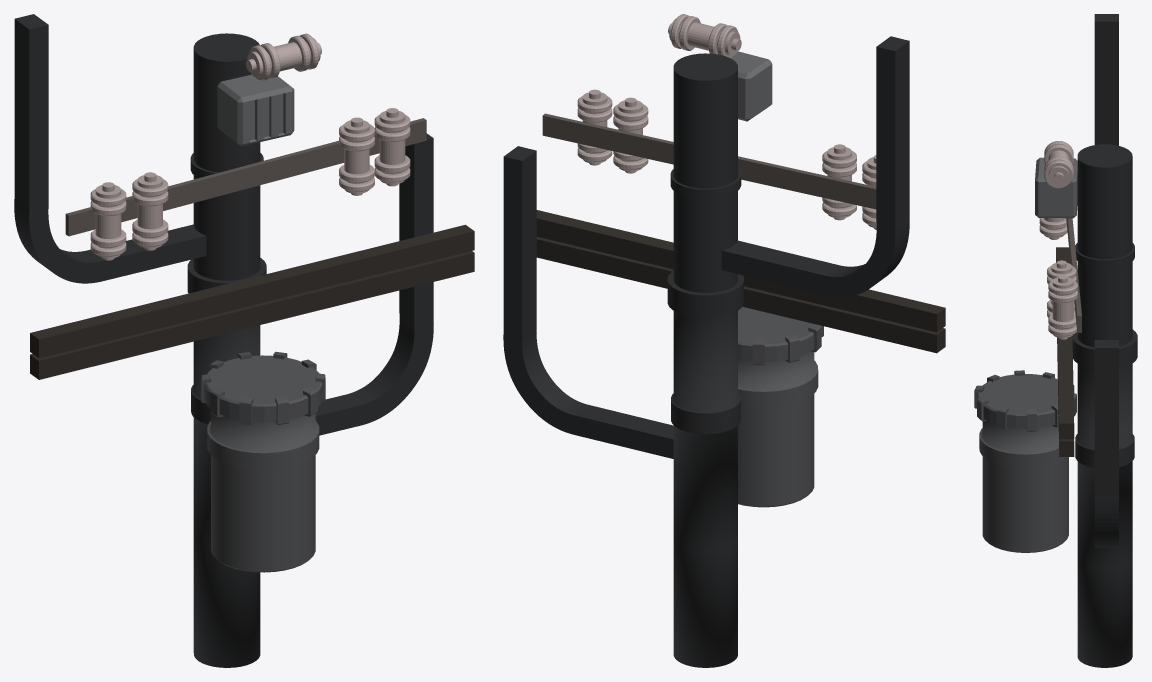
Rendered from m_tete_pole.FBX.
3 renders of one model, left to right at view 1: azimuth 30°, elevation 25°; view 2: azimuth 150°, elevation 25°; view 3: azimuth 270°, elevation 25°, orthographic. The views are drawn at different scales.
Parts seen in each view (by area): view 1: Object003; view 2: Object003; view 3: Object003.
Part boxes in pixels (left/top/right/bottom): Object003: left=14, top=14, right=474, bottom=667; Object003: left=503, top=14, right=945, bottom=667; Object003: left=974, top=14, right=1137, bottom=667.
Bounding box in the file's own units: 75.57 × 112 × 29.57.
